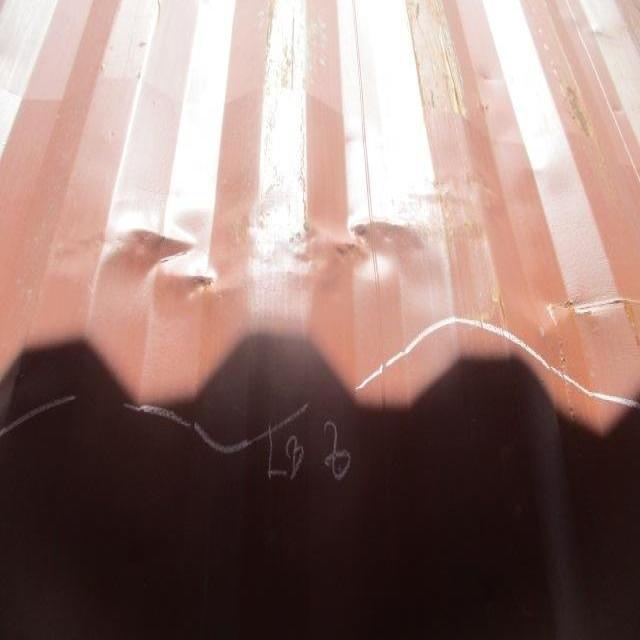dent: (101, 164, 226, 325), (299, 204, 438, 282), (531, 280, 640, 336)
